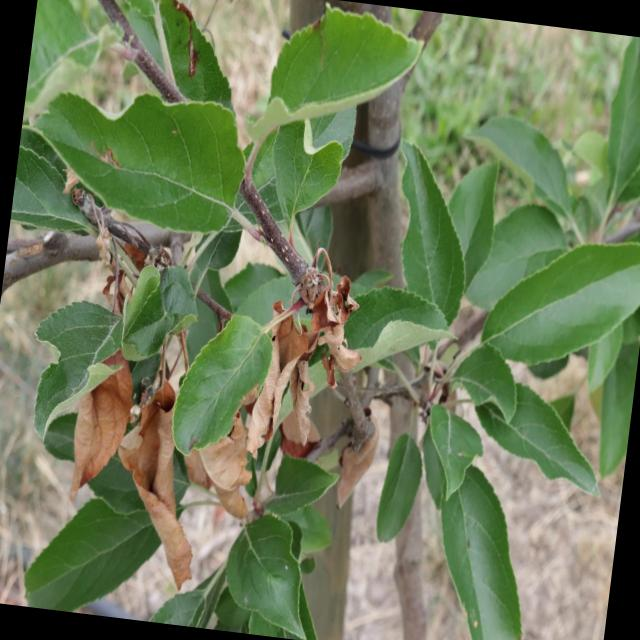-FireBlight-: (106, 331, 212, 588), (60, 320, 144, 491), (247, 292, 328, 451), (164, 404, 264, 526), (276, 263, 372, 387), (94, 220, 145, 308), (335, 422, 370, 505)
